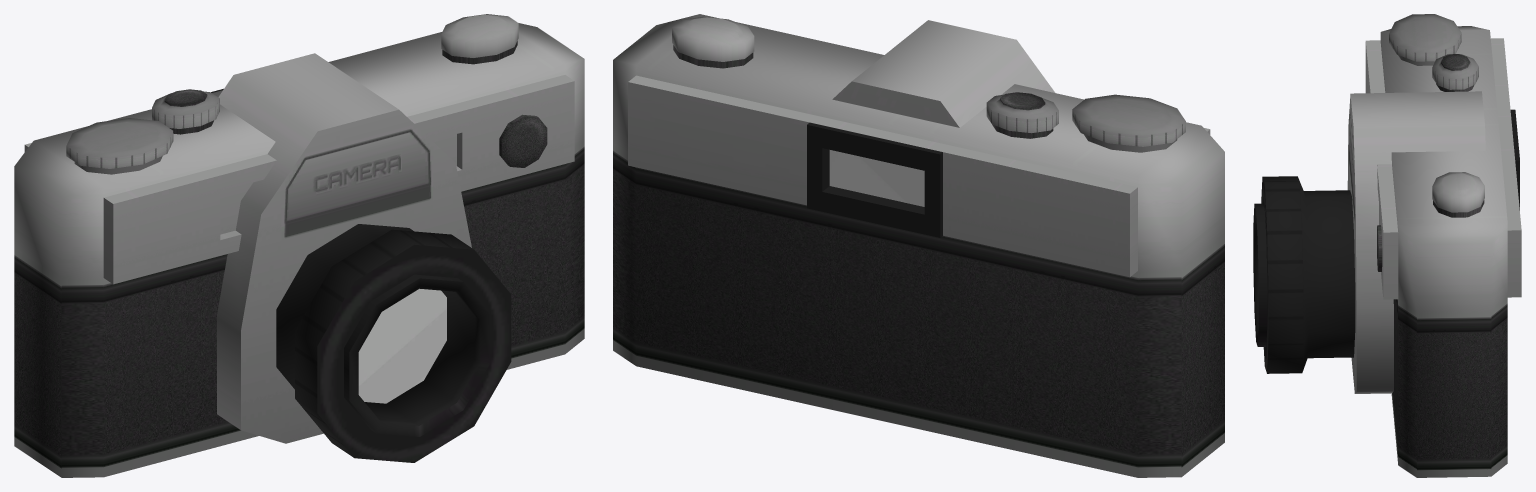
File: CameraHandObject.fbx
The picture shows the model from 3 angles, left to right: view 1: azimuth 30°, elevation 25°; view 2: azimuth 150°, elevation 25°; view 3: azimuth 270°, elevation 25°; orthographic projection. The views are drawn at different scales.
Visible parts, largest first — view 1: FishInvItem; view 2: FishInvItem; view 3: FishInvItem.
Boxes of the visible parts, x1,y1,x2,y2 form: FishInvItem: (14,14,584,477); FishInvItem: (613,14,1224,477); FishInvItem: (1253,14,1521,477).
Bounding box in the file's own units: 0.7713 × 0.4328 × 0.3996.
